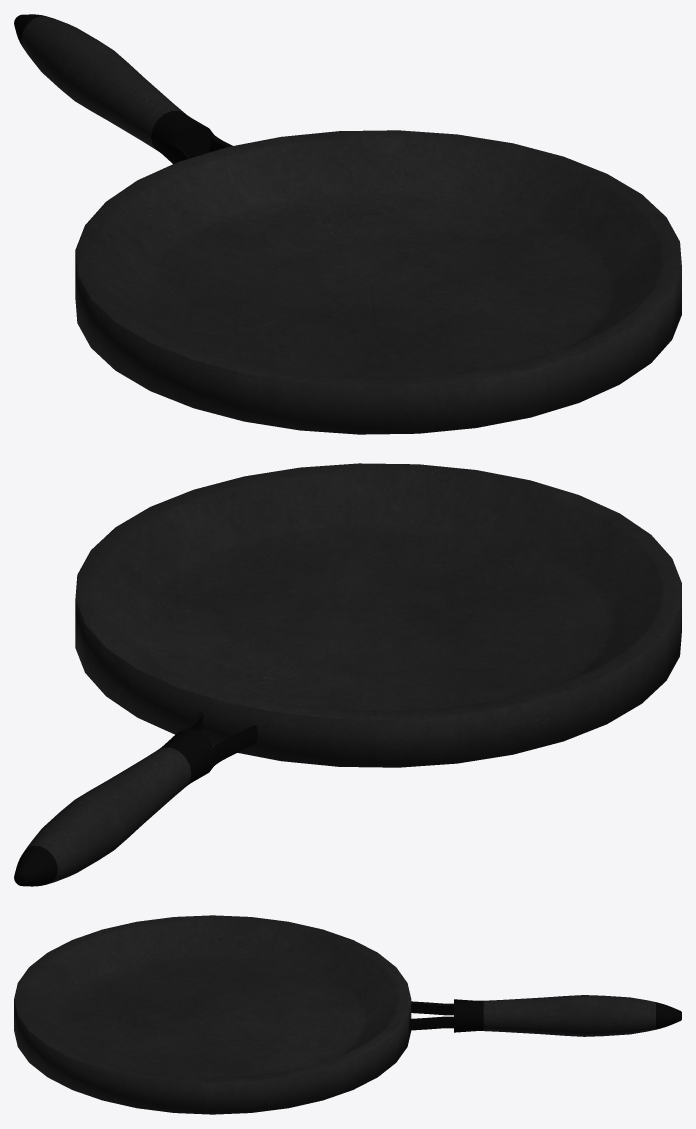
File: frying_pan.glb
3 renders of one model, top to bottom at view 1: azimuth 30°, elevation 25°; view 2: azimuth 150°, elevation 25°; view 3: azimuth 270°, elevation 25°, orthographic. The views are drawn at different scales.
Parts seen in each view (by area): view 1: frying_pan; view 2: frying_pan; view 3: frying_pan.
Part boxes in pixels (x1=…): frying_pan: x1=14, y1=14, x2=681, y2=434; frying_pan: x1=14, y1=463, x2=681, y2=886; frying_pan: x1=14, y1=915, x2=681, y2=1114.
Bounding box in the file's own units: 0.2558 × 0.027 × 0.4299.
2 materials, 2 textured.
